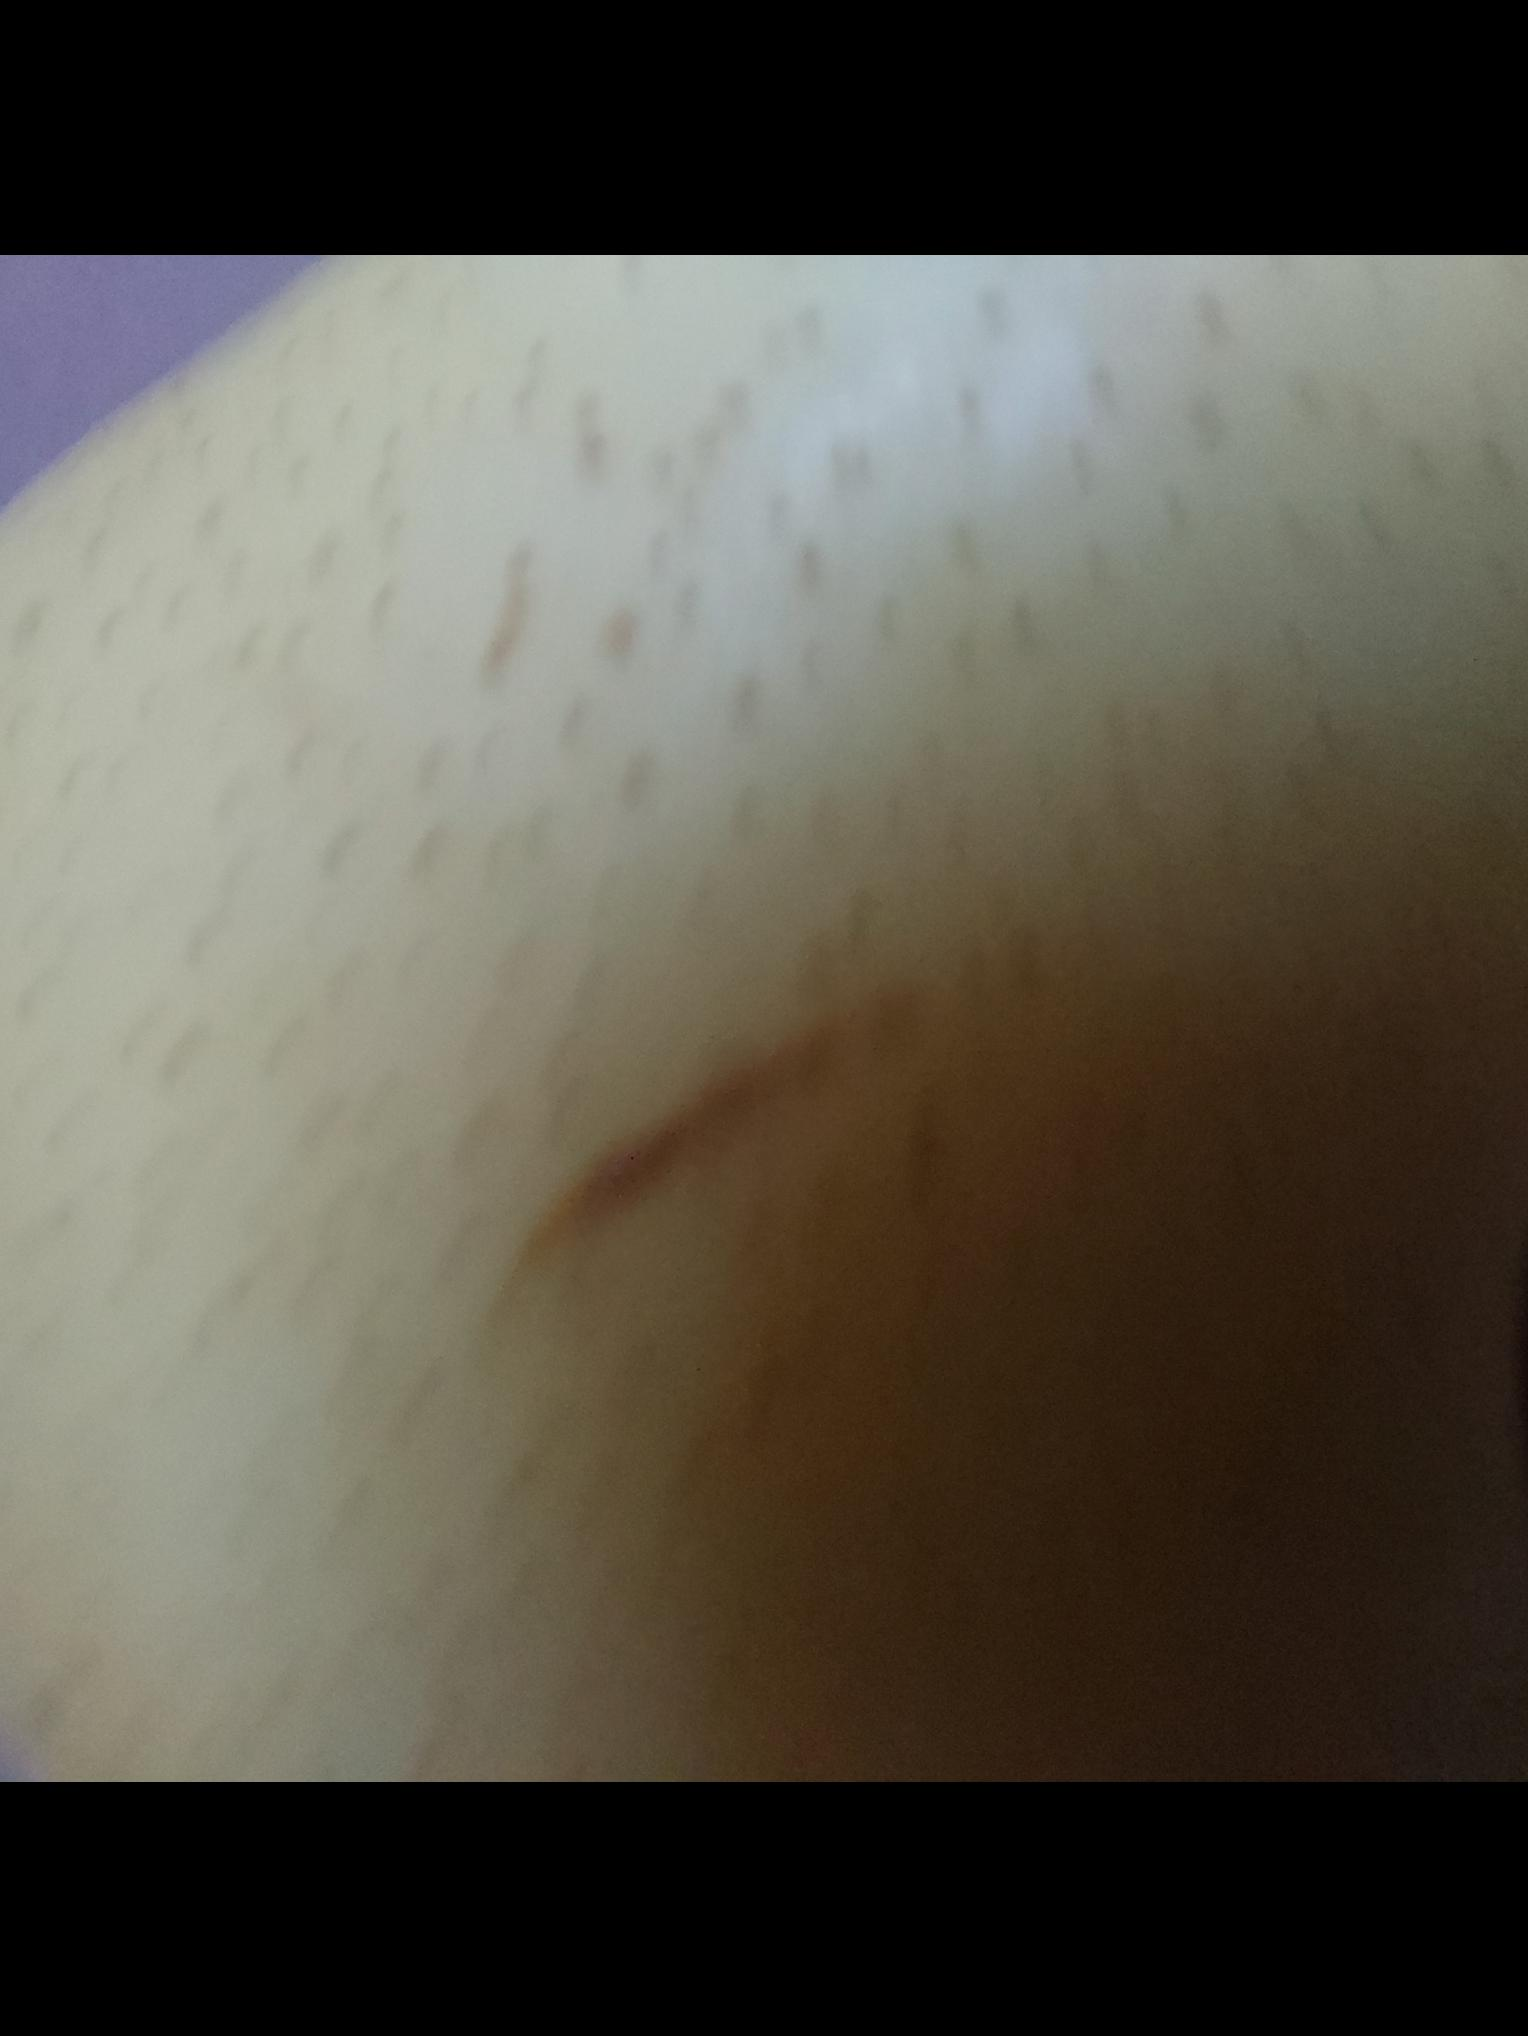Good Pear: (0, 253, 1528, 1763)
